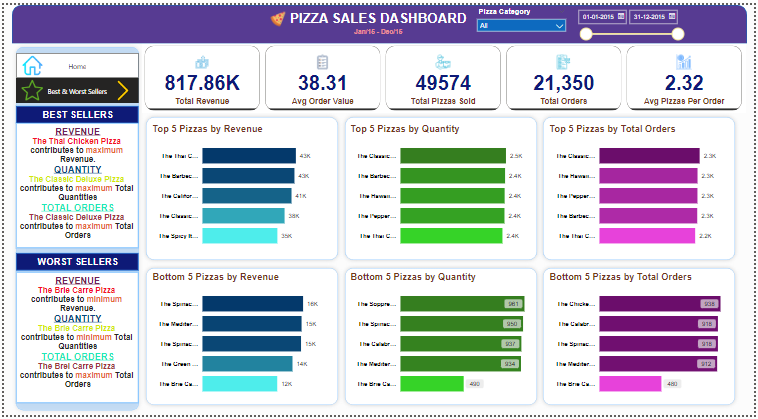

Layout of this report page (visuals, bound fields, positions):
{"tool":"powerbi","page":{"name":"Best & Worst Sellers","canvas":[1500,820],"ordinal":1},"visuals":[{"type":"shape","box":[15,76.7,261.7,743.3],"z":0},{"type":"cardVisual","fields":{"Data":["pizza_sales.Total Revenue","pizza_sales.Avg Order Value","pizza_sales.Total Pizzas Sold","pizza_sales.Total Orders","pizza_sales.Avg Pizzas Per Order"]},"box":[276.7,76.7,1208.3,140],"z":1000},{"type":"shape","box":[15,0,1470,76.7],"z":2000},{"type":"textbox","box":[547.1,5.7,401.4,42.9],"z":3000},{"type":"textbox","box":[685.7,38.6,124.3,30],"z":4000},{"type":"image","box":[528.6,1.4,40,51.4],"z":5000},{"type":"shape","box":[276.7,216.7,400,301.7],"z":6000},{"type":"textbox","box":[23.3,201.7,245,35],"z":7000},{"type":"textbox","box":[23.3,236.7,245,250],"z":8000},{"type":"textbox","box":[23.3,496.7,245,35],"z":9000},{"type":"textbox","box":[23.3,533.3,245,261.7],"z":10000},{"type":"slicer","fields":{"Values":["pizza_sales.pizza_category"]},"box":[936.2,0,197.5,65],"z":11000},{"type":"slicer","fields":{"Values":["pizza_sales.order_date"]},"box":[1135,0,233.3,76.7],"z":12000},{"type":"shape","box":[673.3,216.7,400,301.7],"z":13000},{"type":"shape","box":[1070,216.7,400,301.7],"z":14000},{"type":"shape","box":[276.7,518.3,400,290],"z":15000},{"type":"shape","box":[673.3,518.3,400,290],"z":16000},{"type":"shape","box":[1070,518.3,400,290],"z":17000},{"type":"barChart","title":"Top 5 Pizzas by Revenue","fields":{"Category":["pizza_sales.pizza_name"],"Y":["pizza_sales.Total Revenue"]},"box":[291.7,236.7,368.3,263.3],"z":18000},{"type":"barChart","title":"Bottom 5 Pizzas by Revenue","fields":{"Category":["pizza_sales.pizza_name"],"Y":["pizza_sales.Total Revenue"]},"box":[291.7,531.7,368.3,263.3],"z":19000},{"type":"barChart","title":"Top 5 Pizzas by Quantity","fields":{"Category":["pizza_sales.pizza_name"],"Y":["pizza_sales.Total Pizzas Sold"]},"box":[688.3,236.7,368.3,263.3],"z":20000},{"type":"barChart","title":"Bottom 5 Pizzas by Quantity","fields":{"Category":["pizza_sales.pizza_name"],"Y":["pizza_sales.Total Pizzas Sold"]},"box":[688.3,531.7,368.3,263.3],"z":21000},{"type":"barChart","title":"Top 5 Pizzas by Total Orders","fields":{"Category":["pizza_sales.pizza_name"],"Y":["pizza_sales.Total Orders"]},"box":[1085,236.7,368.3,263.3],"z":22000},{"type":"barChart","title":"Bottom 5 Pizzas by Total Orders","fields":{"Category":["pizza_sales.pizza_name"],"Y":["pizza_sales.Total Orders"]},"box":[1085,531.7,368.3,263.3],"z":23000},{"type":"pageNavigator","box":[23.3,96.7,245,50],"z":24000},{"type":"pageNavigator","box":[23.3,146.7,245,50],"z":25000},{"type":"image","box":[205,146.7,63.3,50],"z":26000},{"type":"image","box":[23.3,96.7,65,50],"z":27000},{"type":"image","box":[26.7,143.3,60,53.3],"z":28000}]}

Visuals, with their boxes in screenshot pixels (x1, y1, x2, y2), scaled from the page's 1500x820 canvas onto the 758x419 screenshot:
shape: BBox(8, 39, 140, 418)
cardVisual - pizza_sales.Total Revenue x pizza_sales.Avg Order Value: BBox(140, 39, 750, 111)
shape: BBox(8, 0, 750, 39)
textbox: BBox(276, 3, 479, 25)
textbox: BBox(347, 20, 409, 35)
image: BBox(267, 1, 287, 27)
shape: BBox(140, 111, 342, 265)
textbox: BBox(12, 103, 136, 121)
textbox: BBox(12, 121, 136, 249)
textbox: BBox(12, 254, 136, 272)
textbox: BBox(12, 273, 136, 406)
slicer - pizza_sales.pizza_category: BBox(473, 0, 573, 33)
slicer - pizza_sales.order_date: BBox(574, 0, 691, 39)
shape: BBox(340, 111, 542, 265)
shape: BBox(541, 111, 743, 265)
shape: BBox(140, 265, 342, 413)
shape: BBox(340, 265, 542, 413)
shape: BBox(541, 265, 743, 413)
"Top 5 Pizzas by Revenue" barChart: BBox(147, 121, 334, 255)
"Bottom 5 Pizzas by Revenue" barChart: BBox(147, 272, 334, 406)
"Top 5 Pizzas by Quantity" barChart: BBox(348, 121, 534, 255)
"Bottom 5 Pizzas by Quantity" barChart: BBox(348, 272, 534, 406)
"Top 5 Pizzas by Total Orders" barChart: BBox(548, 121, 734, 255)
"Bottom 5 Pizzas by Total Orders" barChart: BBox(548, 272, 734, 406)
pageNavigator: BBox(12, 49, 136, 75)
pageNavigator: BBox(12, 75, 136, 101)
image: BBox(104, 75, 136, 101)
image: BBox(12, 49, 45, 75)
image: BBox(13, 73, 44, 100)
